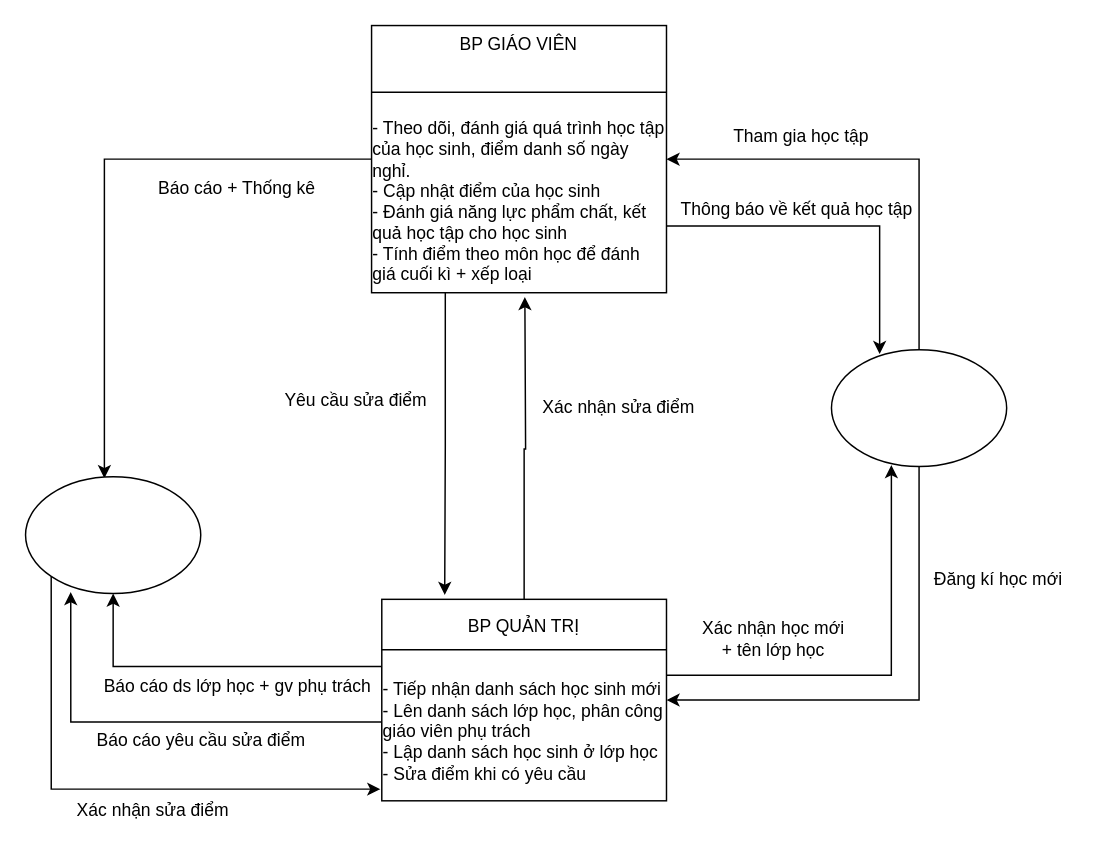
This 1095x850 diagram has some shape labels left out. The shapes that lost their labels are listed below. From the top down, each one's centre as x and y in pixels, then its label:
(918,407): HỌC SINH
(112,534): BAN GIÁM HIỆU
